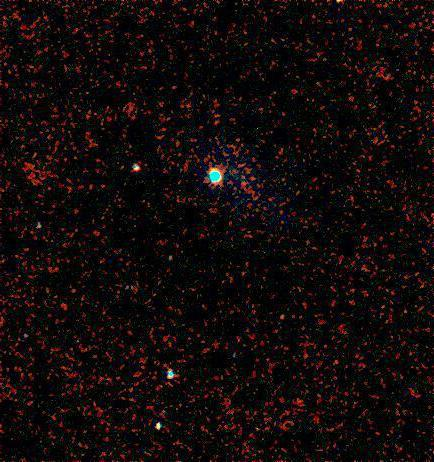star: (323, 0, 353, 22)
